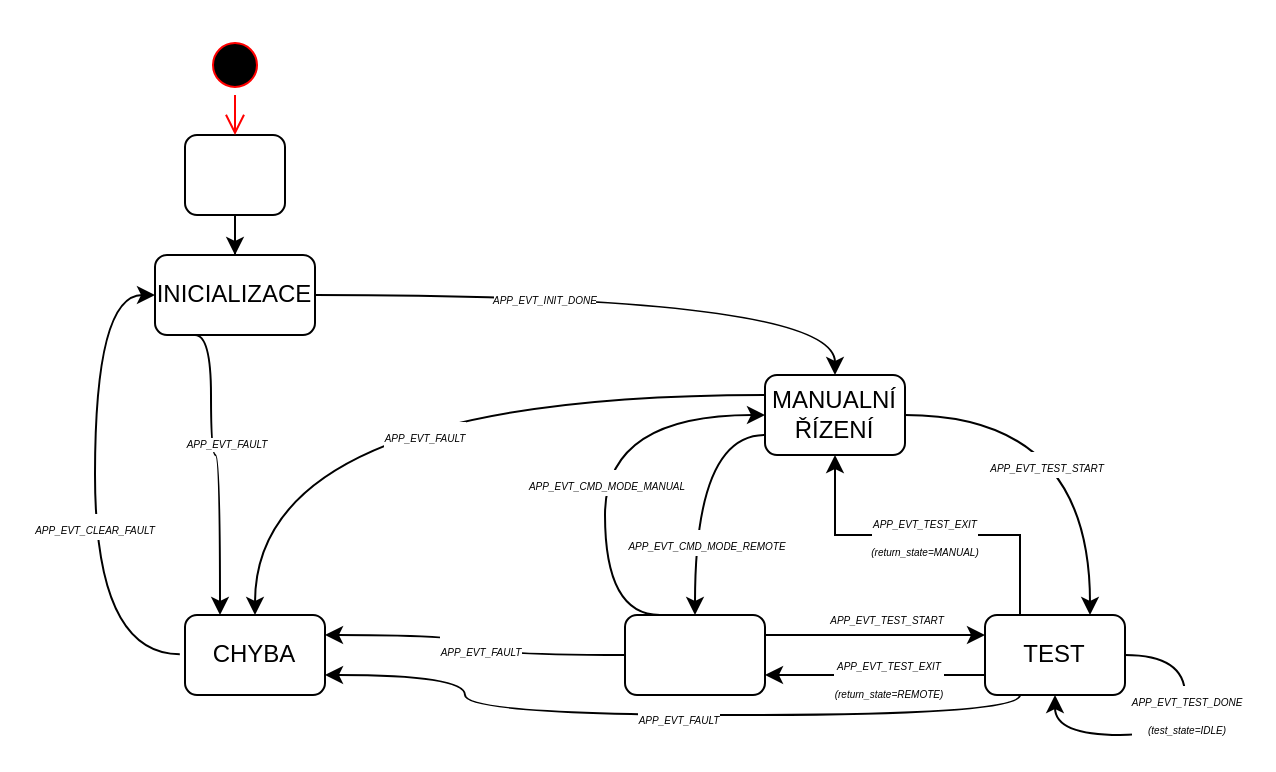
Some shapes in this 1276 by 772 pixel diagram are drawn without their labels. The shapes that lost their labels are listed below. From the top down, each one's centre as x and y in pixels, then its label:
(234,174): BOOT
(694,654): VZDÁLENÉ ŘÍZENÍ
